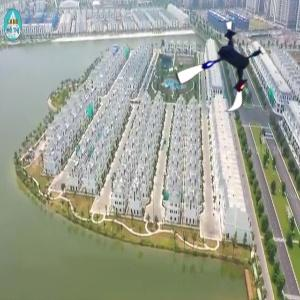drone: (178, 23, 273, 118)
